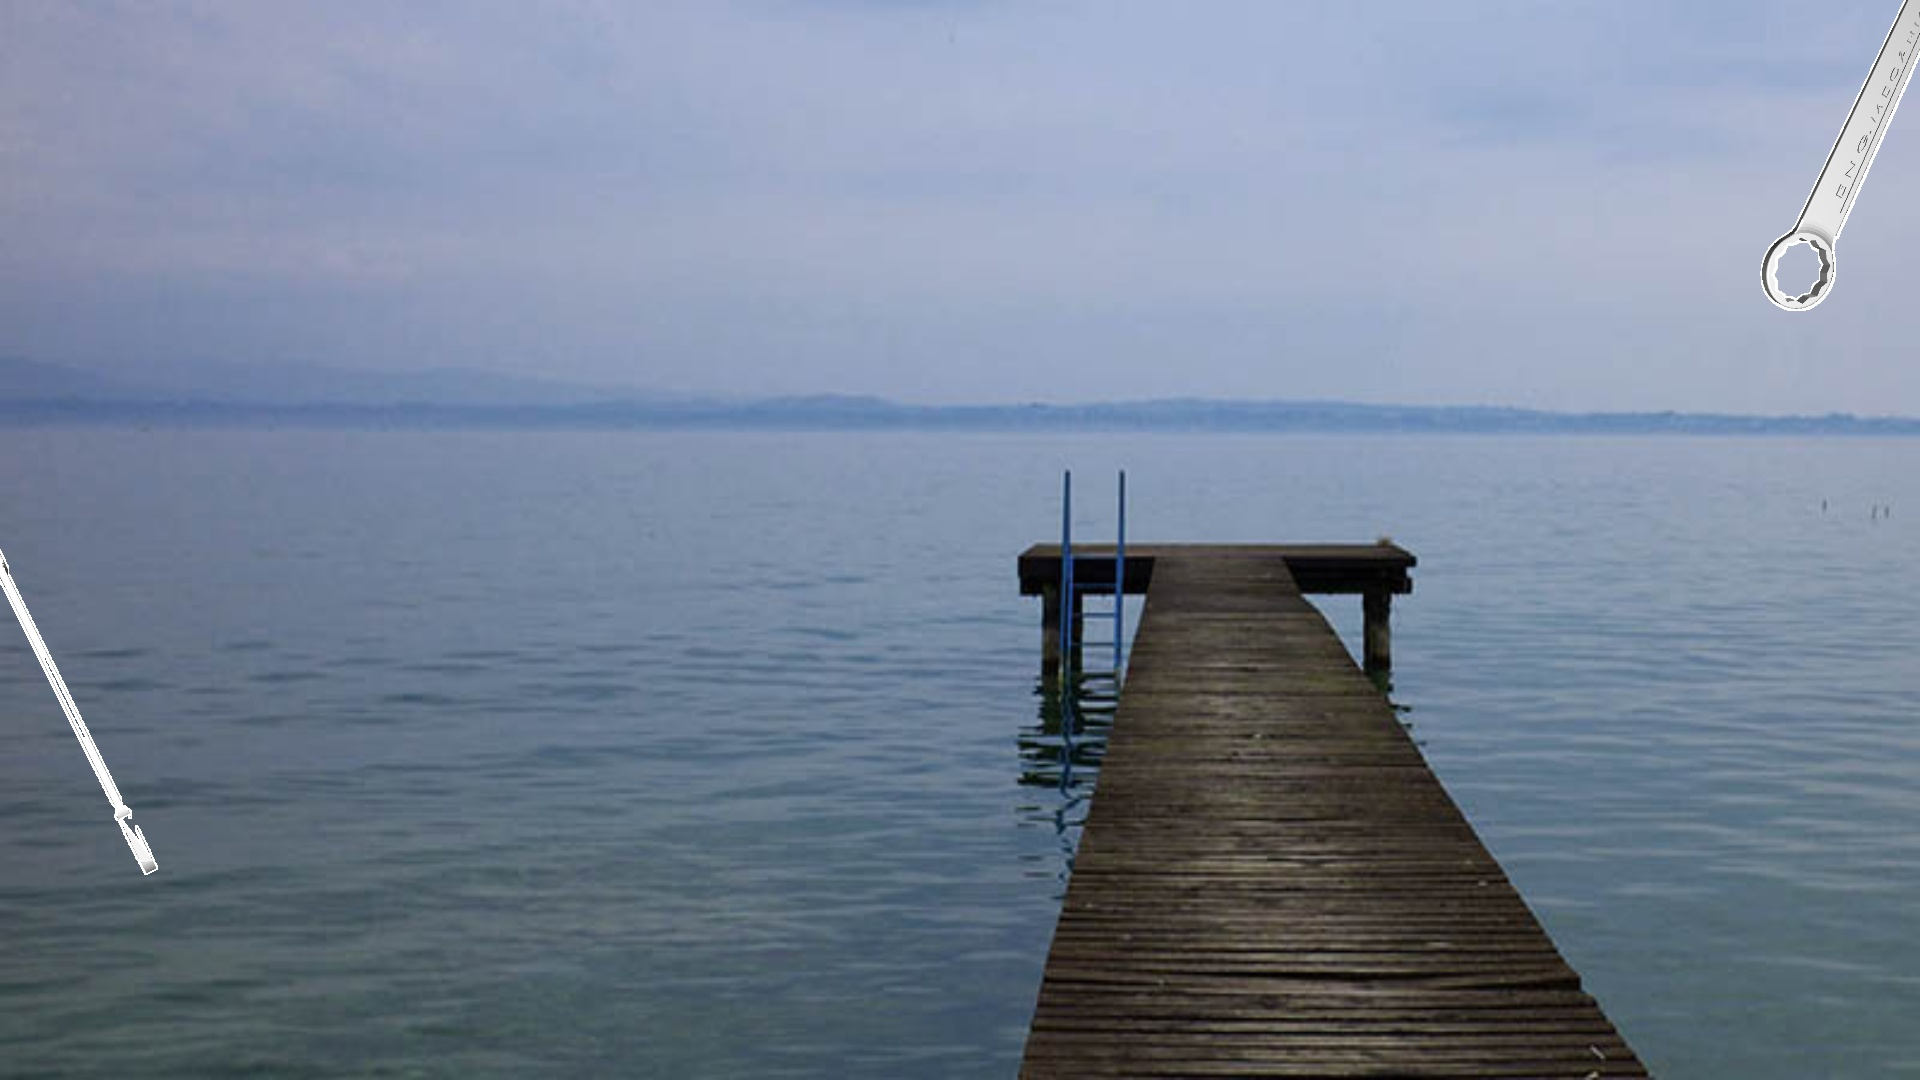Mixed Key: (0, 549, 157, 874), (1760, 0, 1919, 310)
